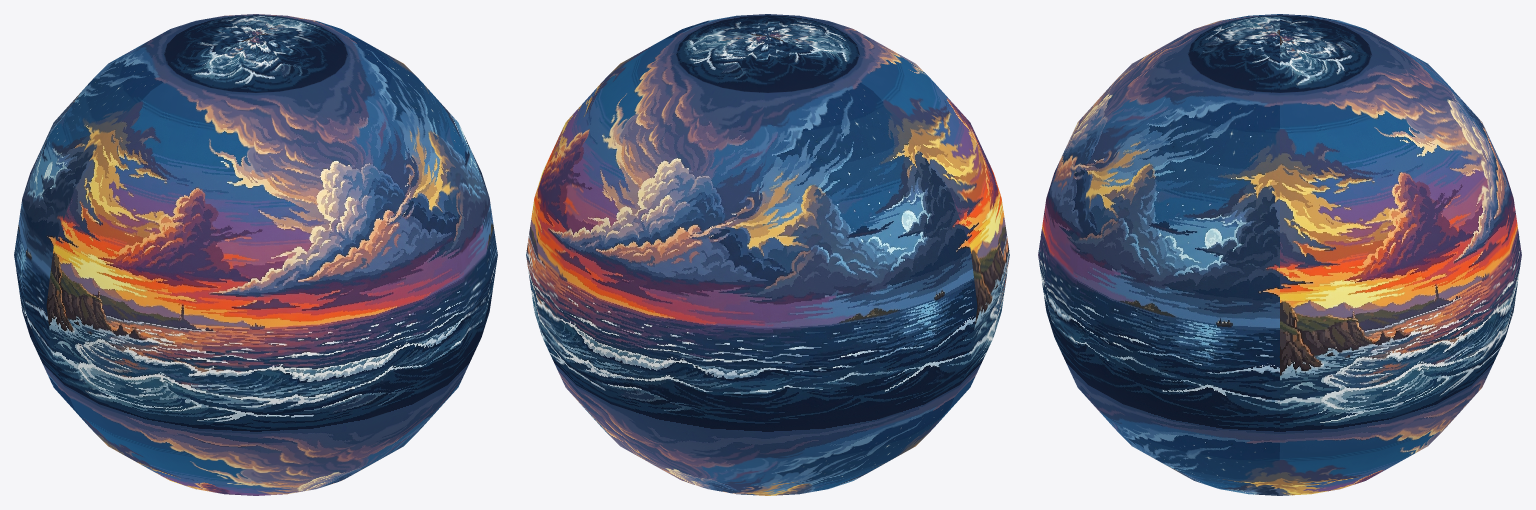
Rendered from roma.glb.
3 renders of one model, left to right at view 1: azimuth 30°, elevation 25°; view 2: azimuth 150°, elevation 25°; view 3: azimuth 270°, elevation 25°, orthographic.
Visible parts, largest first — view 1: Sphere; view 2: Sphere; view 3: Sphere.
Boxes of the visible parts, <box> form: Sphere: <box>14,14,497,495</box>; Sphere: <box>526,14,1009,495</box>; Sphere: <box>1038,14,1521,495</box>.
Bounding box in the file's own units: 400 × 400 × 400.
4 materials, 4 textured.
